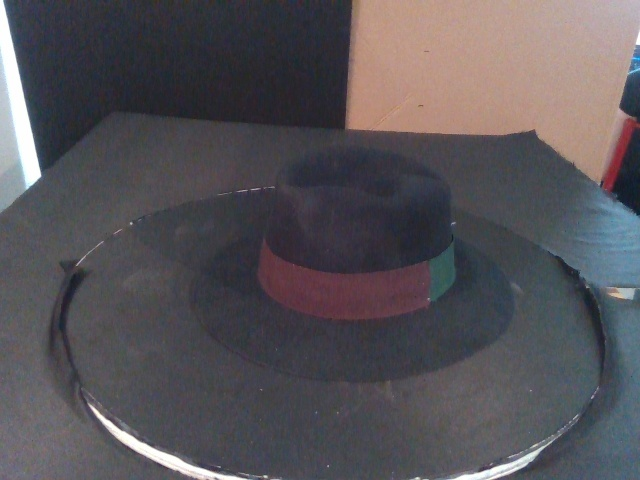hat: (195, 147, 514, 383)
